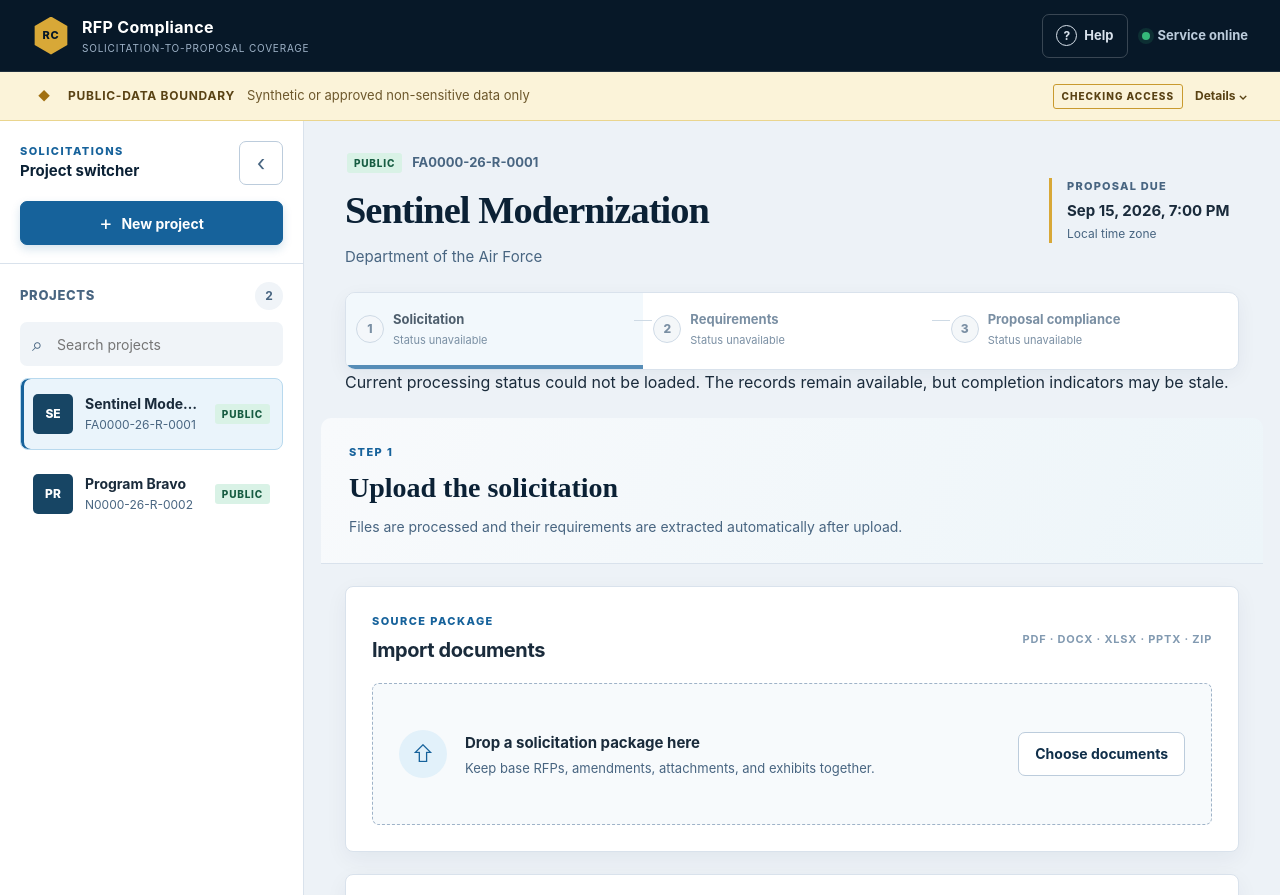
Scenario: App › filters the project switcher and exposes plain-language help
Check: the heading "Sentinel Modernization" is shown, box [345, 182, 709, 240]
Type "Bravo" into the search field named "Search projects".
click(152, 344); type("Bravo")  # box [20, 322, 283, 366]
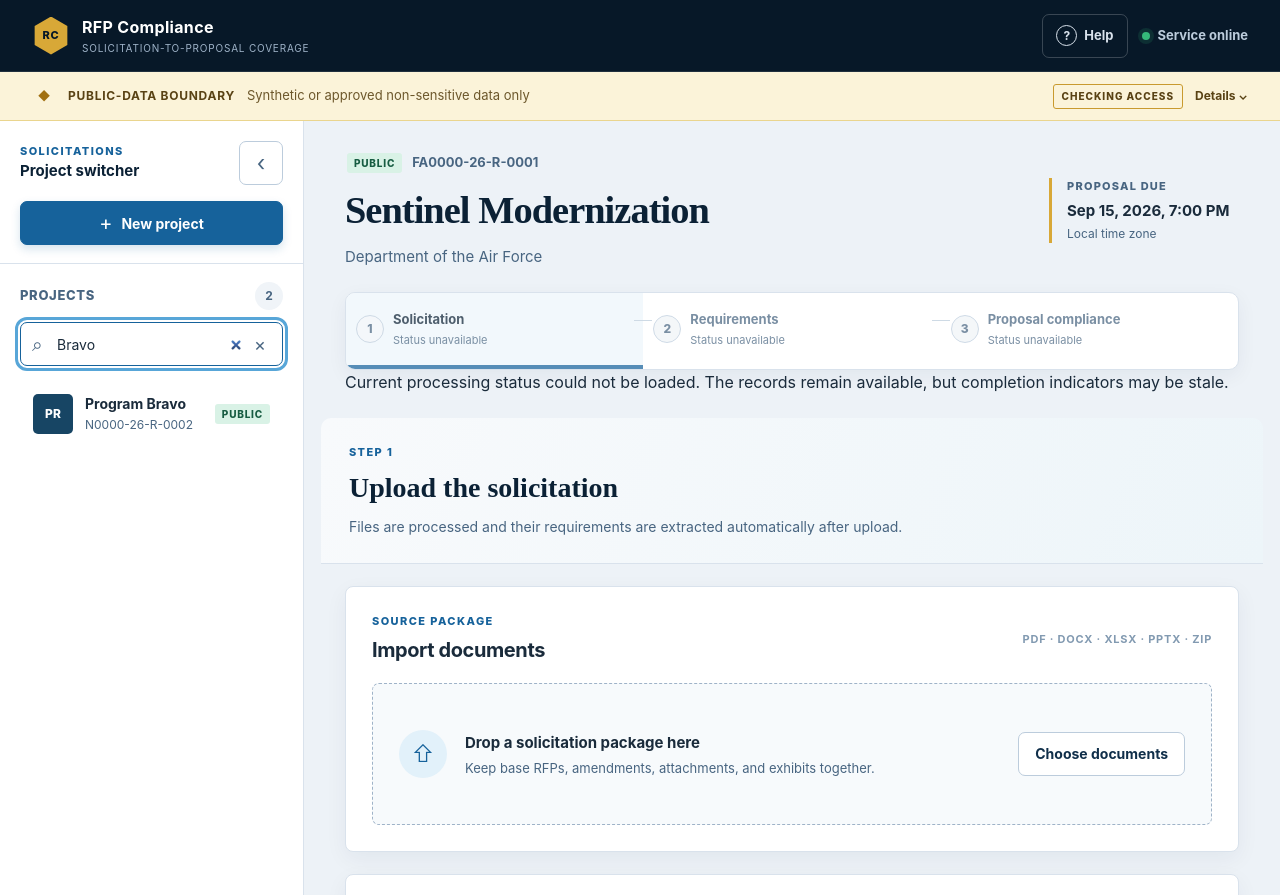
Check: the button "PR Program Bravo N0000-26-R-0002 PUBLIC" is shown, box [20, 378, 283, 450]
Click the button "? Help".
click(1085, 36)  # box [1042, 14, 1128, 58]
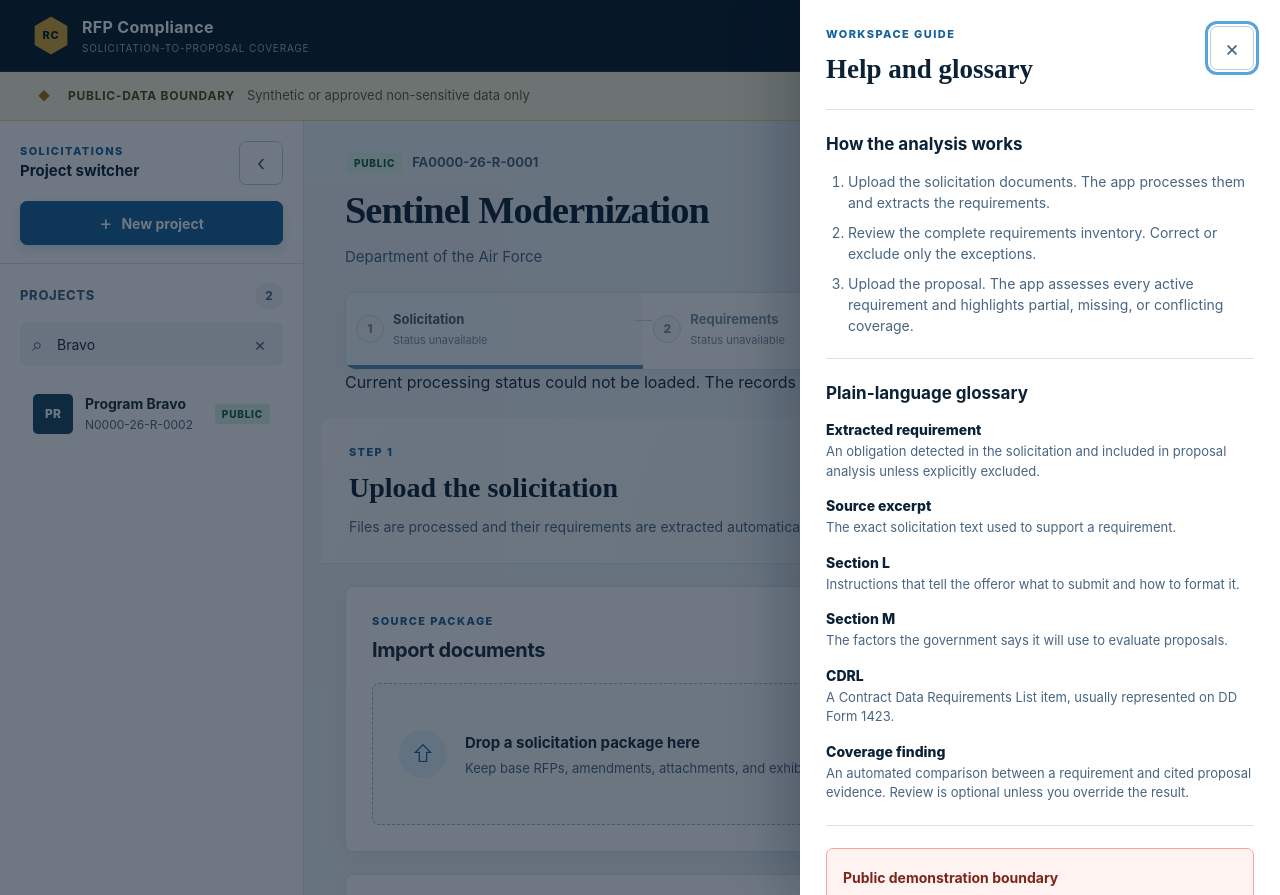
Check: the dialog "Help and glossary" shows "extracted requirement", box [826, 421, 981, 438]
Check: the dialog "Help and glossary" shows "section L", box [826, 554, 890, 570]
Press Escape
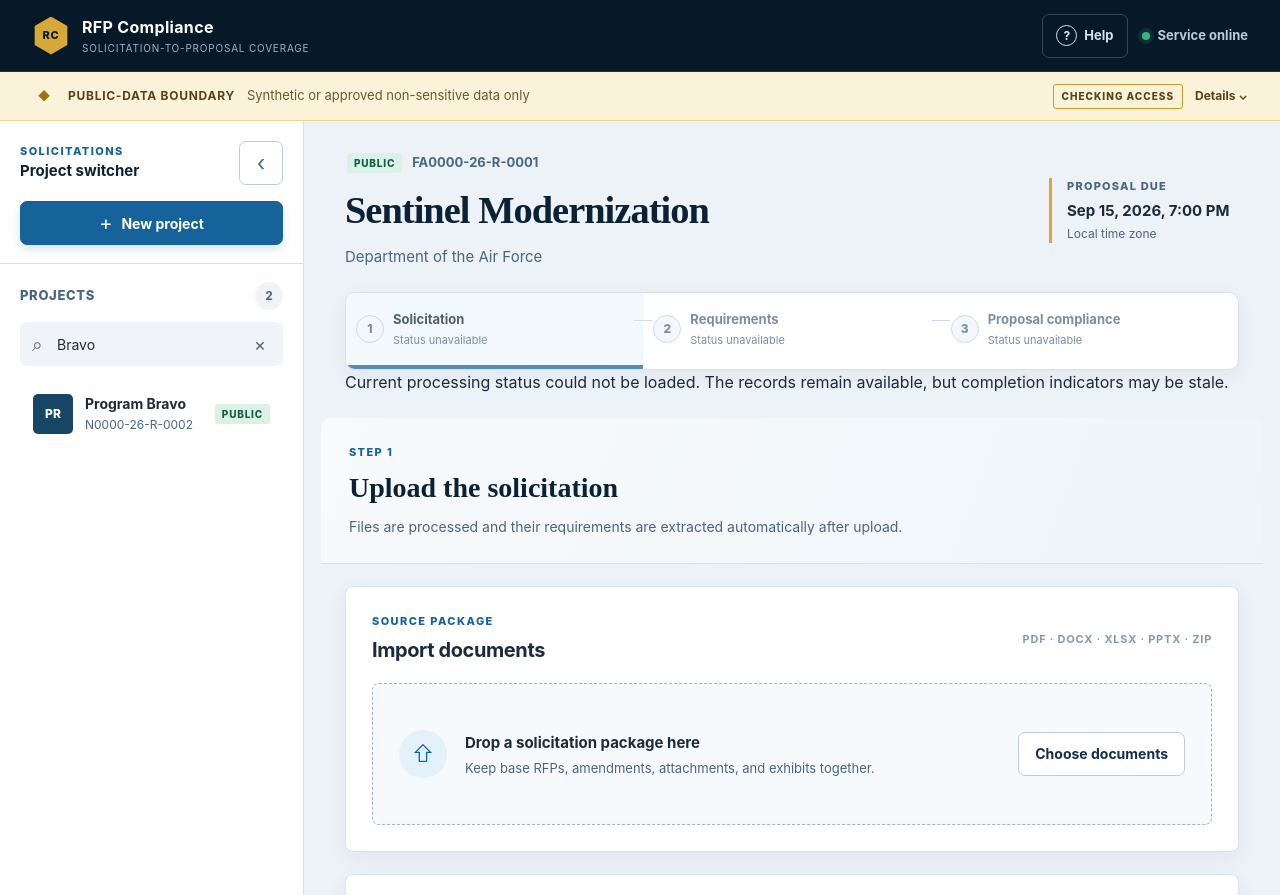
Check: the heading "Help and glossary" is gone
